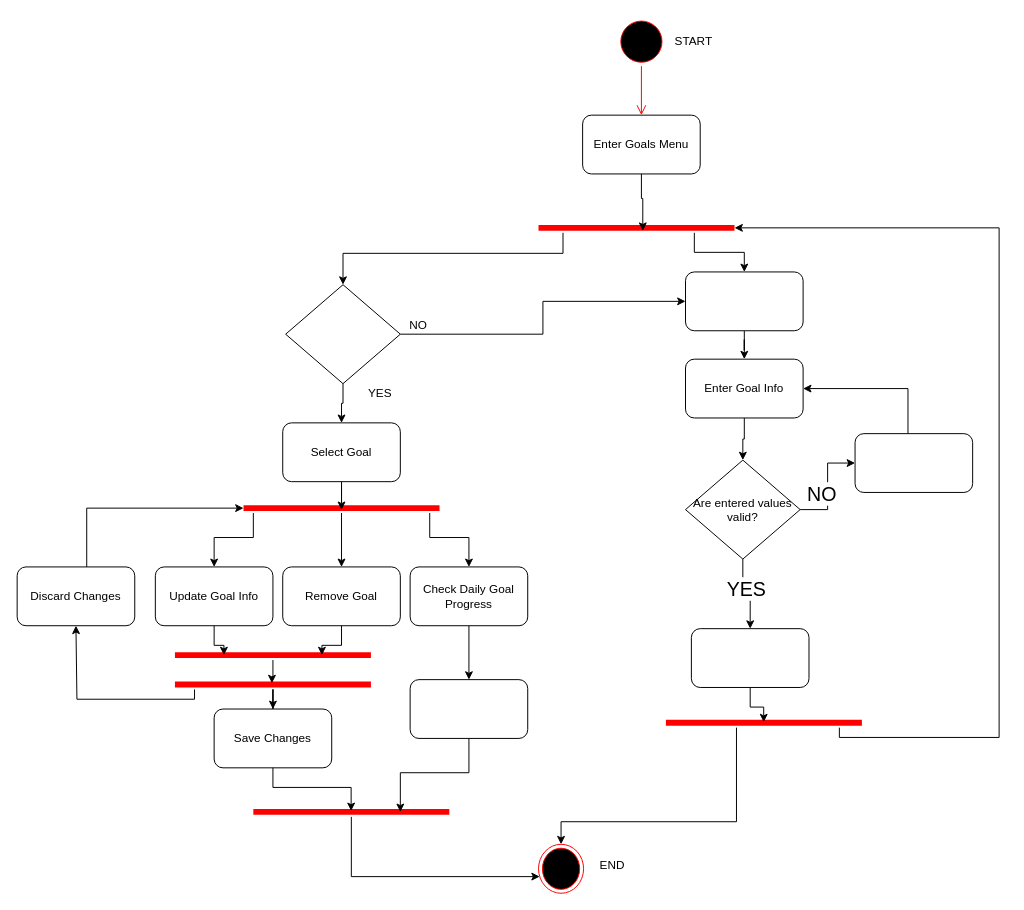
This 1024x910 diagram has some shape labels left out. Each missing label, with the box of its shape:
Add New Goal: (685, 271, 803, 331)
Are there any existing goals?: (285, 284, 400, 384)
Display Error Message: (854, 433, 973, 492)
Save Goal: (690, 628, 809, 687)
View Saved Goal Info: (409, 679, 528, 738)
